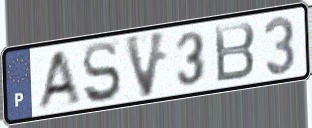3: (262, 12, 296, 78), (173, 29, 208, 89)
A: (34, 47, 83, 113)
B: (212, 20, 257, 85)
S: (80, 40, 124, 106)
V: (122, 28, 169, 101)
